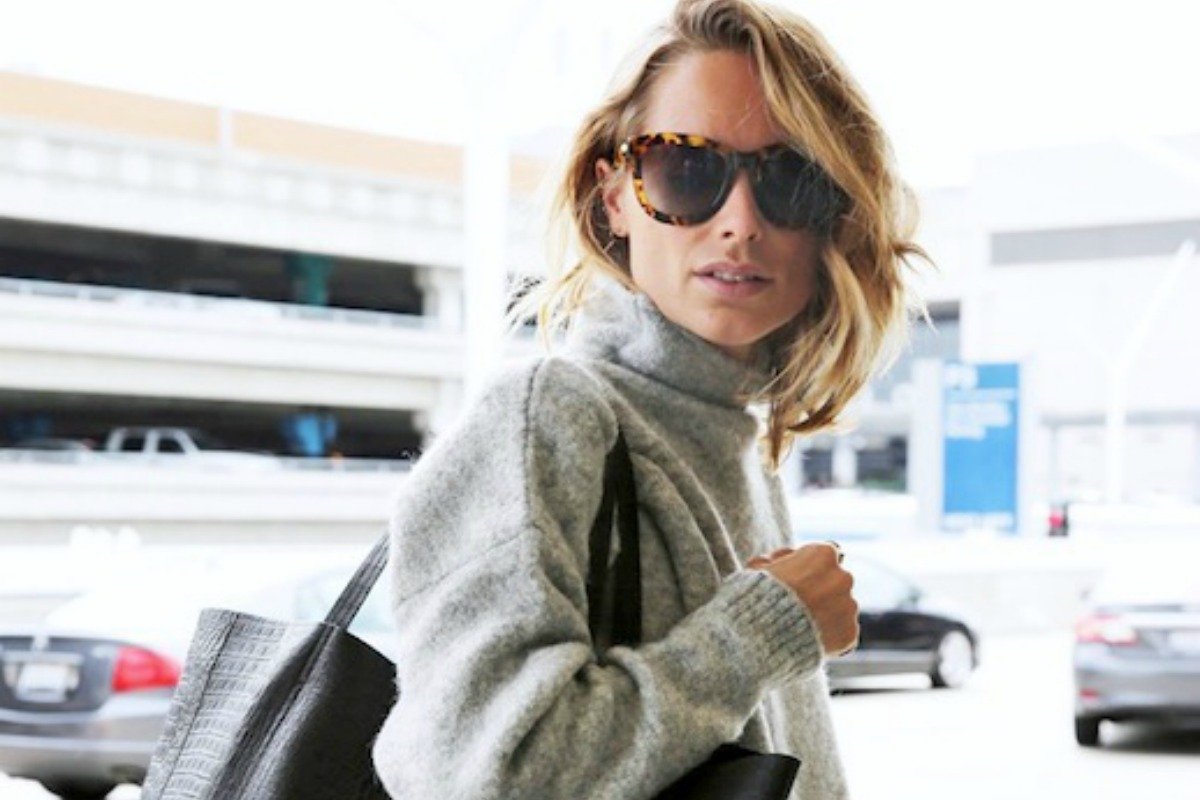sunglasses: (610, 133, 862, 232)
